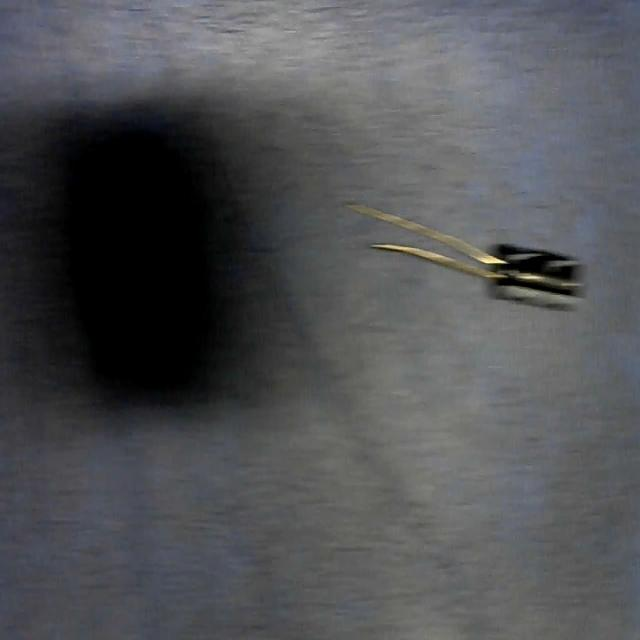capacitor: (356, 203, 585, 309)
